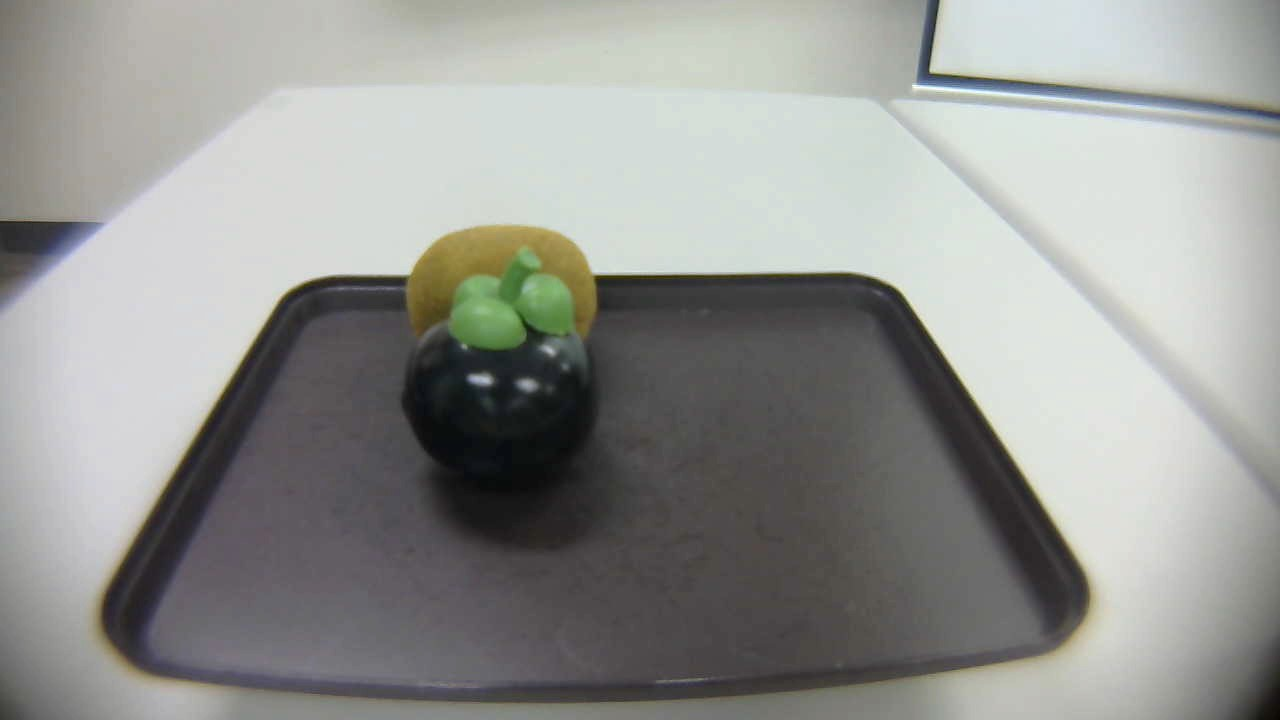kiwi fruit: (390, 206, 623, 351)
mangosteen: (404, 248, 606, 483)
